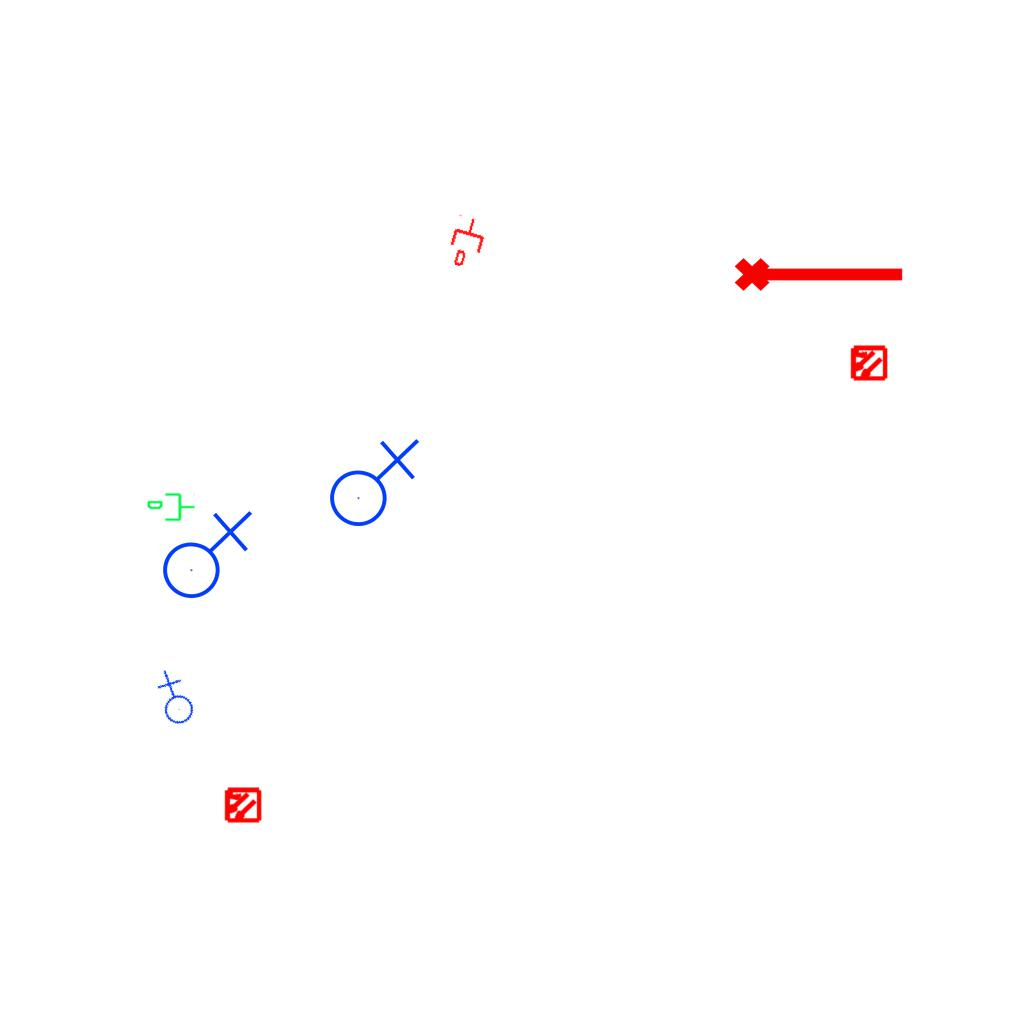ASR_Ansaugoeffnung: (732, 249, 908, 295)
Datenanschluss_einfach: (443, 213, 491, 271), (146, 491, 196, 525)
Elektroanschluss_allgemein_230V_Geraeteanschlussdose_230V: (321, 434, 420, 528), (154, 506, 253, 600), (142, 668, 205, 733)
OT_Multisensormelder_(Kombination_RMO_WMD): (840, 335, 896, 391), (214, 777, 270, 833)
